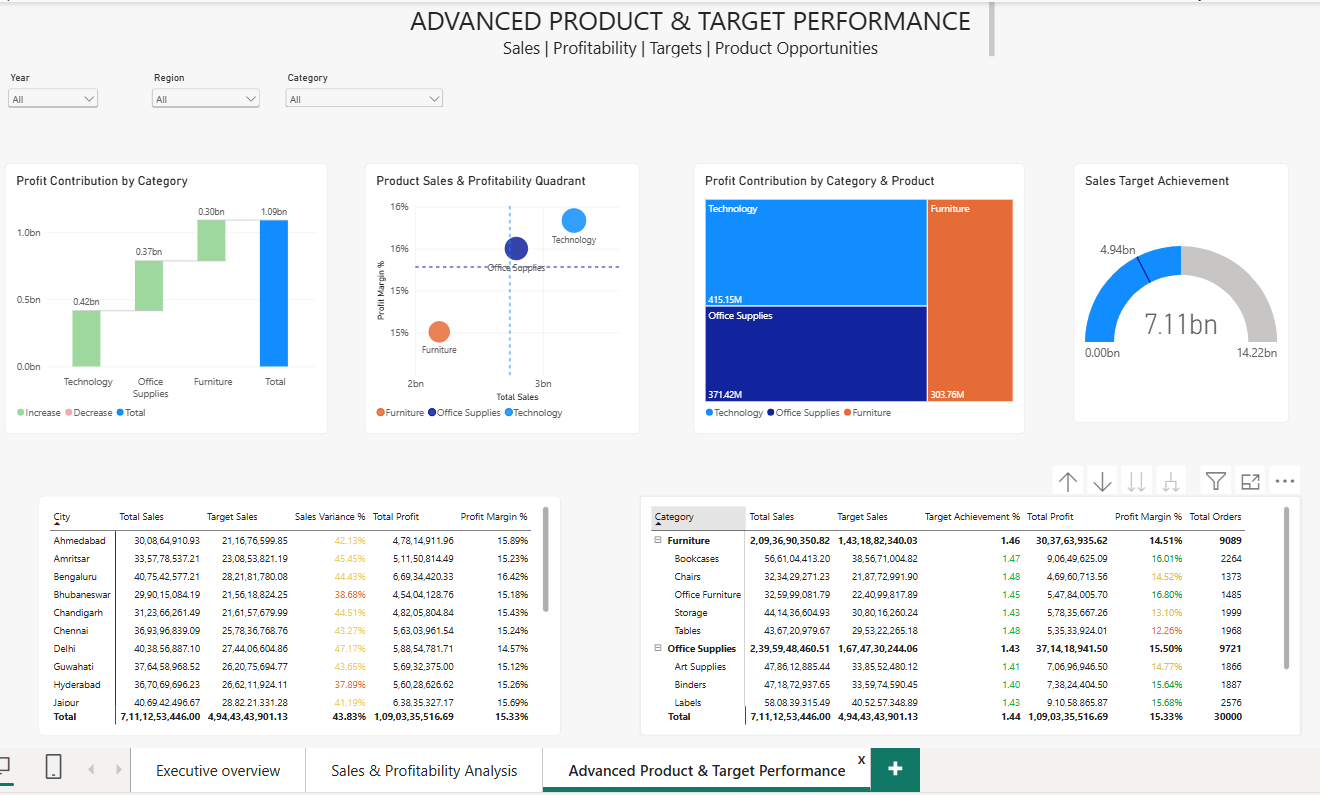

This screenshot's page, from the dashboard's own definition file:
{"tool":"powerbi","page":{"name":"Advanced Product & Target Performance","canvas":[1920,1080],"ordinal":2},"visuals":[{"type":"textbox","box":[574,0,872,80],"z":0},{"type":"slicer","fields":{"Values":["DimDate.Year"]},"box":[12,102,140,66],"z":1},{"type":"slicer","fields":{"Values":["DimCustomer.Region"]},"box":[220,102,166,68],"z":2},{"type":"slicer","fields":{"Values":["DimProduct.Category"]},"box":[414,102,238,50],"z":3},{"type":"gauge","title":"Sales Target Achievement","fields":{"TargetValue":["_Measures.Target Sales"],"Y":["_Measures.Total Sales"]},"box":[1560,234,312,376],"z":5},{"type":"pivotTable","fields":{"Rows":["DimProduct.Category","DimProduct.SubCategory"],"Values":["_Measures.Total Sales","_Measures.Target Sales","_Measures.Target Achievement %","_Measures.Total Profit","_Measures.Profit Margin %","_Measures.Total Orders"]},"box":[932,714,958,348],"z":6},{"type":"treemap","title":"Profit Contribution by Category & Product","fields":{"Group":["DimProduct.Category","DimProduct.ProductName"],"Values":["_Measures.Total Profit"]},"box":[1010,234,480,392],"z":7},{"type":"pivotTable","fields":{"Rows":["DimCustomer.City"],"Values":["_Measures.Total Sales","_Measures.Target Sales","_Measures.Sales Variance %","_Measures.Total Profit","_Measures.Profit Margin %"]},"box":[62,714,756,348],"z":8},{"type":"waterfallChart","title":"Profit Contribution by Category","fields":{"Category":["DimProduct.Category"],"Y":["_Measures.Total Profit"]},"box":[12,234,468,392],"z":9},{"type":"scatterChart","title":"Product Sales & Profitability Quadrant","fields":{"Series":["DimProduct.Category"],"Size":["_Measures.Total Profit"],"X":["_Measures.Total Sales"],"Y":["_Measures.Profit Margin %"]},"box":[534,234,398,392],"z":10}]}

Visuals, with their boxes on the page's 1920x1080 design canvas (x1, y1, x2, y2). These are canvas units, not pixel positions in the 1320x795 screenshot, which may show the page scaled, cropped or inside an application window:
textbox: (left=574, top=0, right=1446, bottom=80)
slicer - DimDate.Year: (left=12, top=102, right=152, bottom=168)
slicer - DimCustomer.Region: (left=220, top=102, right=386, bottom=170)
slicer - DimProduct.Category: (left=414, top=102, right=652, bottom=152)
"Sales Target Achievement" gauge: (left=1560, top=234, right=1872, bottom=610)
pivotTable - DimProduct.Category x DimProduct.SubCategory: (left=932, top=714, right=1890, bottom=1062)
"Profit Contribution by Category & Product" treemap: (left=1010, top=234, right=1490, bottom=626)
pivotTable - DimCustomer.City x _Measures.Total Sales: (left=62, top=714, right=818, bottom=1062)
"Profit Contribution by Category" waterfallChart: (left=12, top=234, right=480, bottom=626)
"Product Sales & Profitability Quadrant" scatterChart: (left=534, top=234, right=932, bottom=626)
